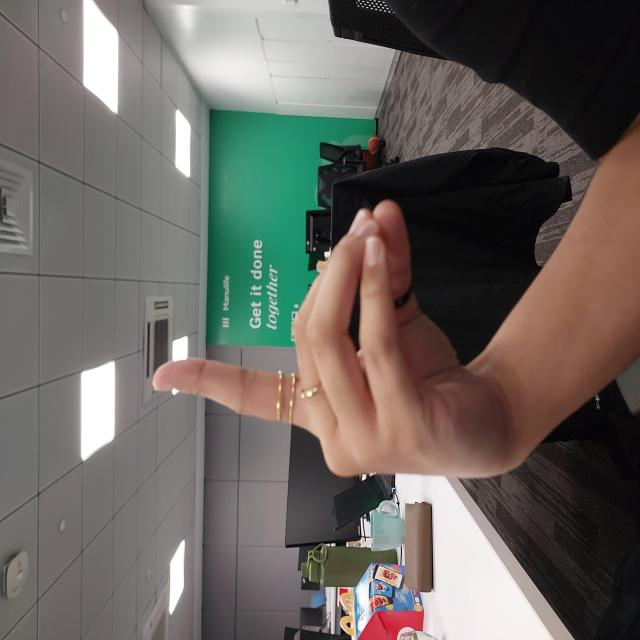D: (159, 152, 445, 512)
